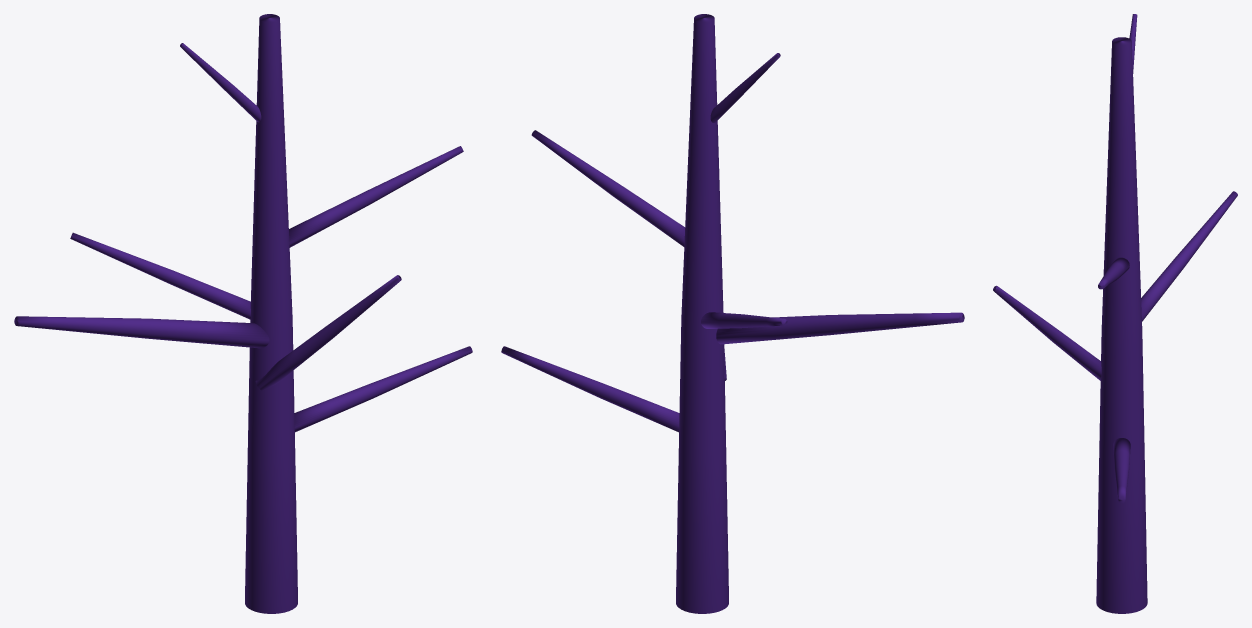
The model's file is Arbol_dead.fbx.
3 views of the same model, side by side, from view 1: azimuth 30°, elevation 25°; view 2: azimuth 150°, elevation 25°; view 3: azimuth 270°, elevation 25° (orthographic). The views are drawn at different scales.
Visible parts, largest first — view 1: Arbol_dead; view 2: Arbol_dead; view 3: Arbol_dead.
Boxes of the visible parts, x1=… form: Arbol_dead: x1=14, y1=14, x2=472, y2=613; Arbol_dead: x1=501, y1=14, x2=964, y2=613; Arbol_dead: x1=993, y1=14, x2=1237, y2=613.
Size of the model in its own units: 284 by 347 by 137.
